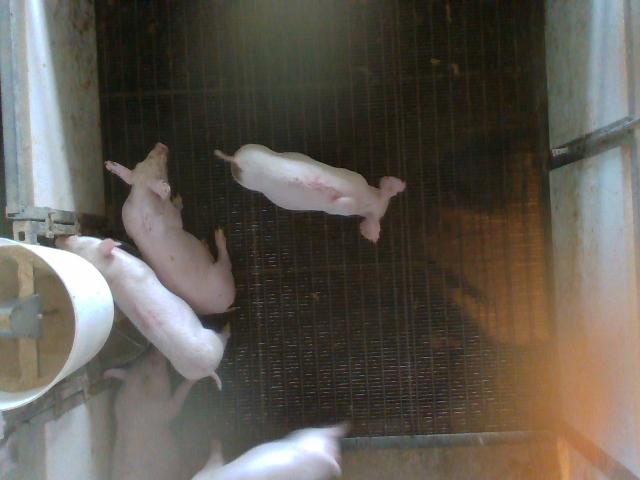pig-4: (56, 235, 230, 388)
pig-5: (215, 144, 405, 242)
